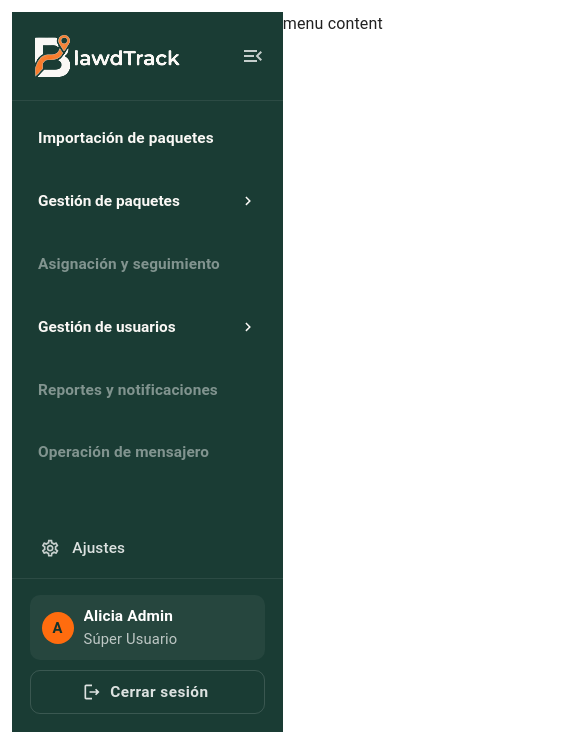
Test: MainMenuLayout sidebar › collapsed sidebar › hover flyouts › opens the functions of Mensajeros or Administradores in a second box next to the hovered row
The image size is (571, 732).
Click the button named "Colapsar menú".
click(253, 56)  # box [231,34,275,78]
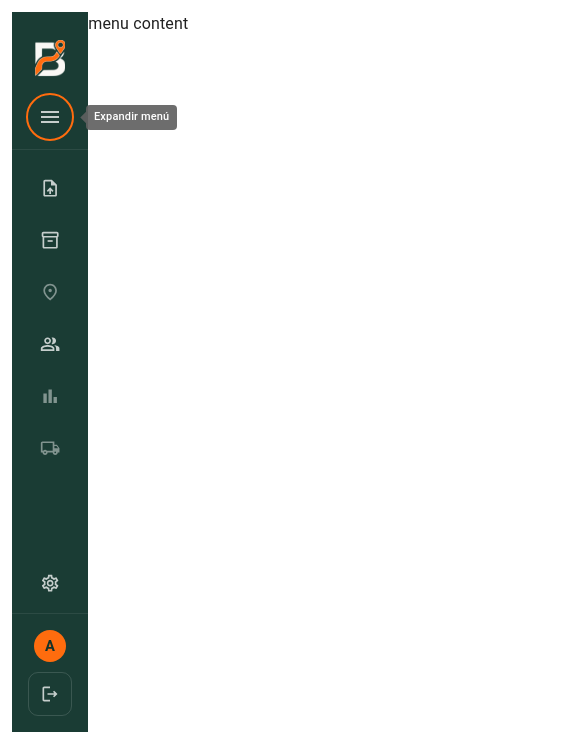
Hover over the button named "Gestión de usuarios".
mouse_move(50, 344)  # box [28,322,72,366]
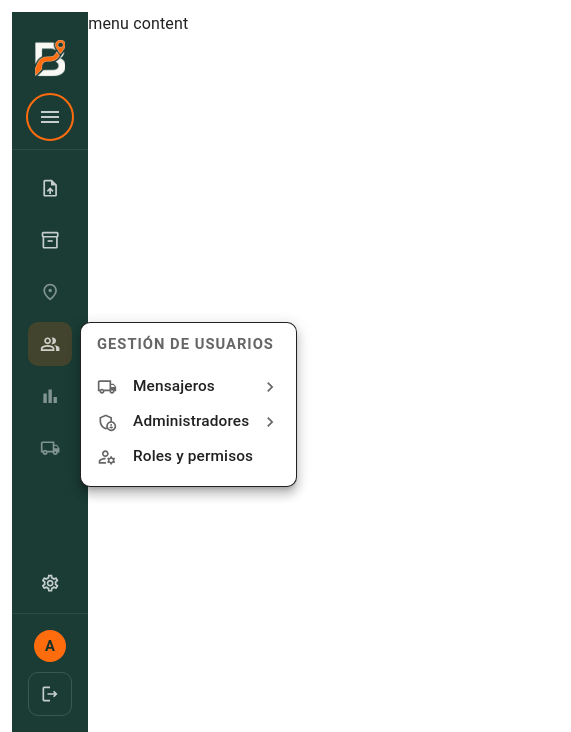
Hover over the menu item "Mensajeros".
mouse_move(188, 387)  # box [97,377,280,397]
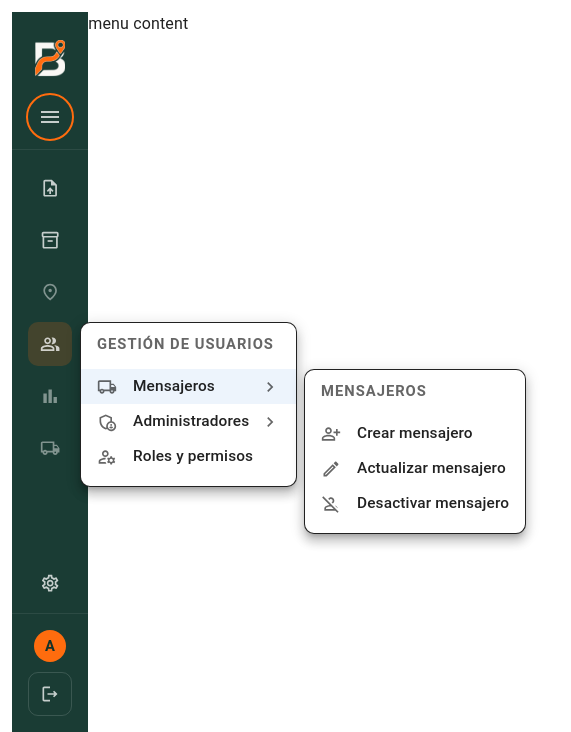
Expected: the menu item "Crear mensajero" is shown, [321,424,473,444]
Expected: the menu item "Actualizar mensajero" is shown, [321,459,506,479]
Expected: the menu item "Desactivar mensajero" is shown, [321,494,509,514]
Hover over the menu item "Administradores".
mouse_move(188, 422)  # box [97,412,280,432]
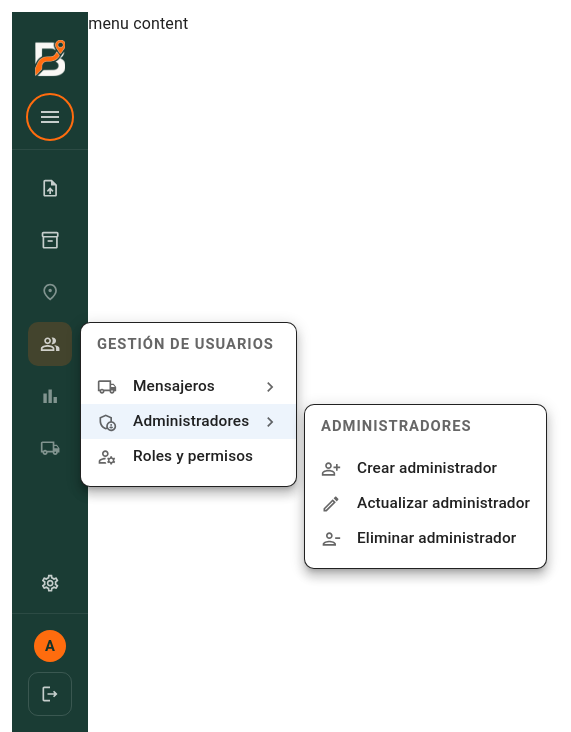
Expected: the menu item "Crear administrador" is shown, [321,459,497,479]
Expected: the menu item "Eliminar administrador" is shown, [321,529,516,549]
Expected: the menu item "Crear mensajero" is gone
